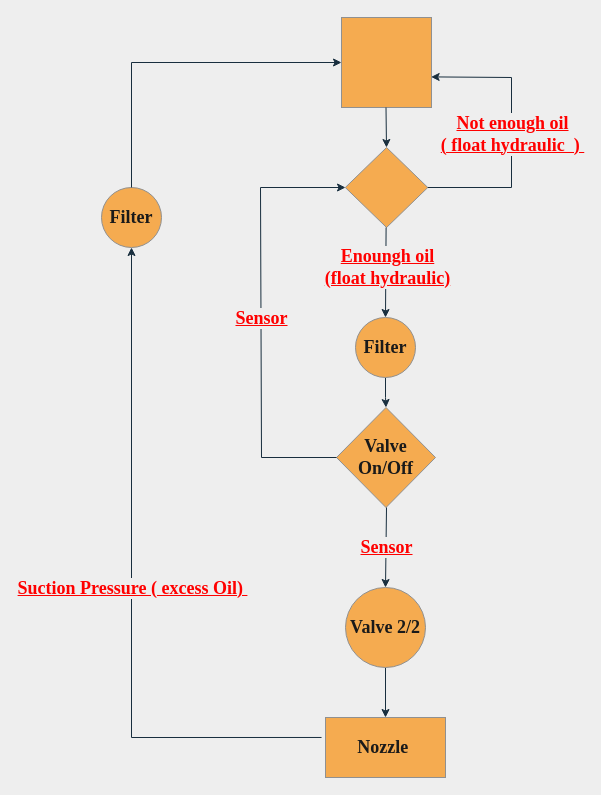
The diagram is 601 pixels wide and 795 high, and some of its shapes have lost their labels. The centre of each missing label's shape, as x and y in pixels:
"Pump" goes at [386,187].
"Tank" goes at [386,62].
